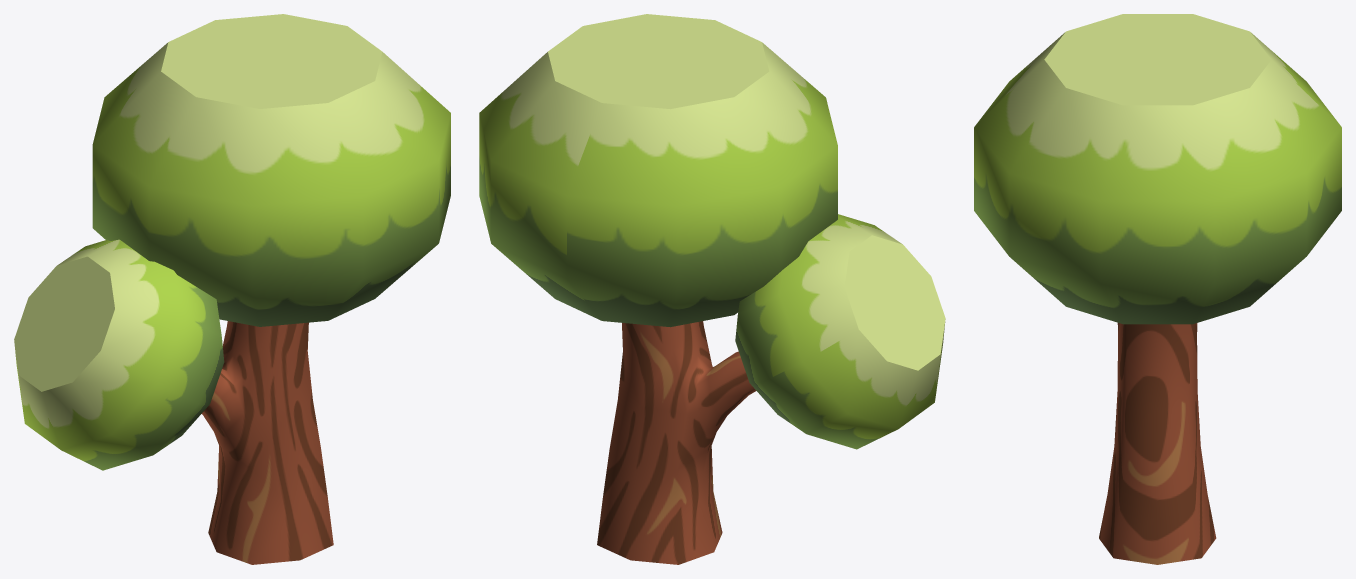
Rendered from arvore01.FBX.
The picture shows the model from 3 angles, left to right: view 1: azimuth 30°, elevation 25°; view 2: azimuth 150°, elevation 25°; view 3: azimuth 270°, elevation 25°; orthographic projection.
Visible parts, largest first — view 1: folhasArvore01, folhasArvore002, troncoArvore01; view 2: folhasArvore01, folhasArvore002, troncoArvore01; view 3: folhasArvore01, troncoArvore01.
Part boxes in pixels (x1,y1,x2,y2): folhasArvore01: (92, 14, 450, 326); folhasArvore002: (14, 239, 224, 470); troncoArvore01: (201, 321, 333, 564); folhasArvore01: (479, 14, 837, 327); folhasArvore002: (735, 214, 945, 449); troncoArvore01: (597, 321, 756, 564); folhasArvore01: (974, 14, 1341, 324); troncoArvore01: (1099, 323, 1216, 564).
Bounding box in the file's own units: 182 × 204 × 142.
